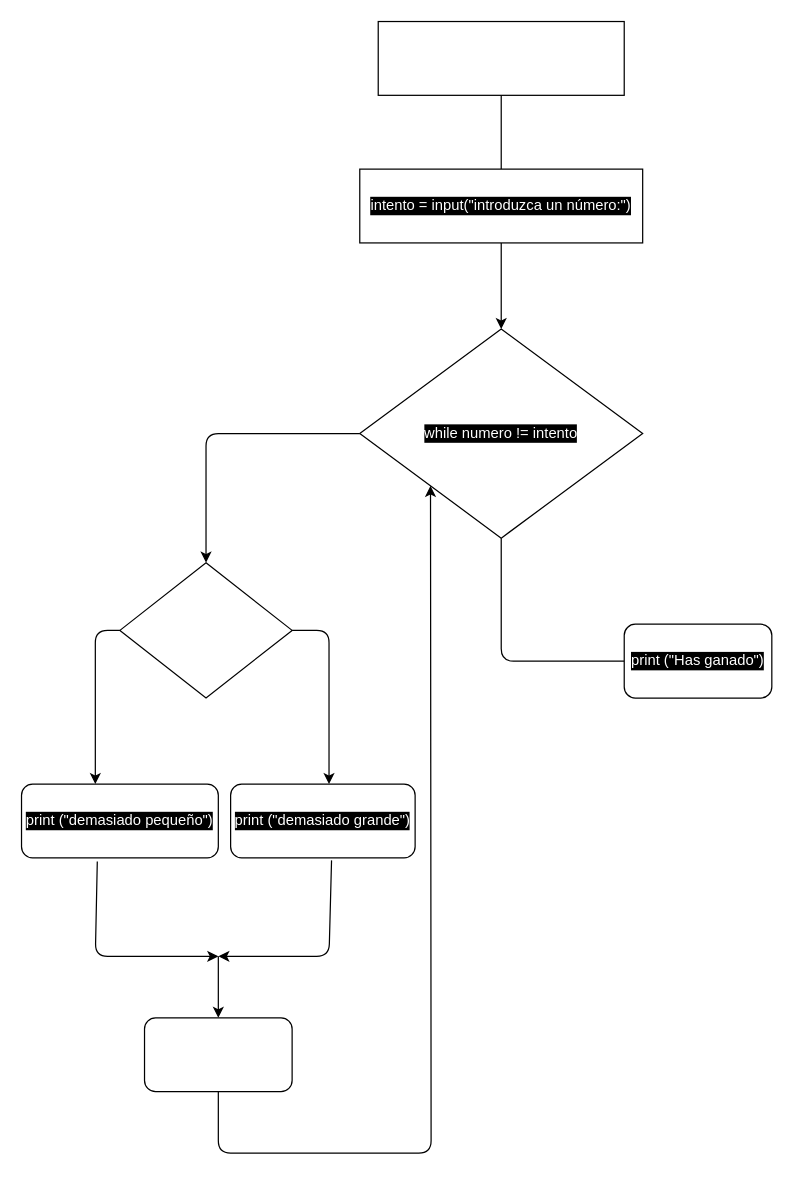
This 793x1184 diagram has some shape labels left out. The shapes that lost their labels are listed below. From the top down, each one's centre as x and y in pixels, then its label:
(x=500, y=57): import random numero = random.randint (0, 100)
(x=205, y=629): if numero > intento
(x=217, y=1054): intento = input ("introduzca otro número:")
